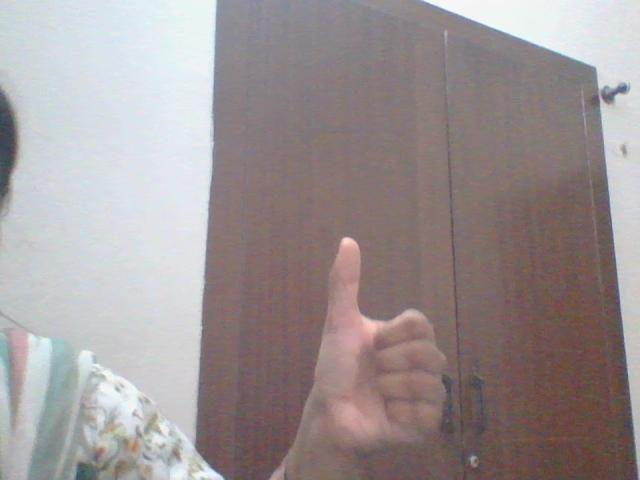thumbs-up: (311, 236, 447, 446)
